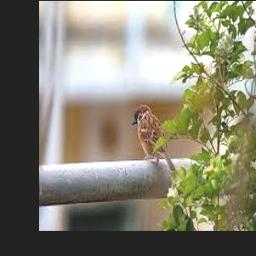Sparrow: (133, 104, 176, 171)
